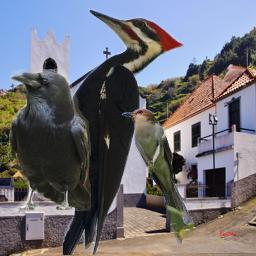Crow: (8, 69, 91, 211)
Cuckoo: (122, 108, 194, 245)
Woodpecker: (58, 7, 189, 255)
